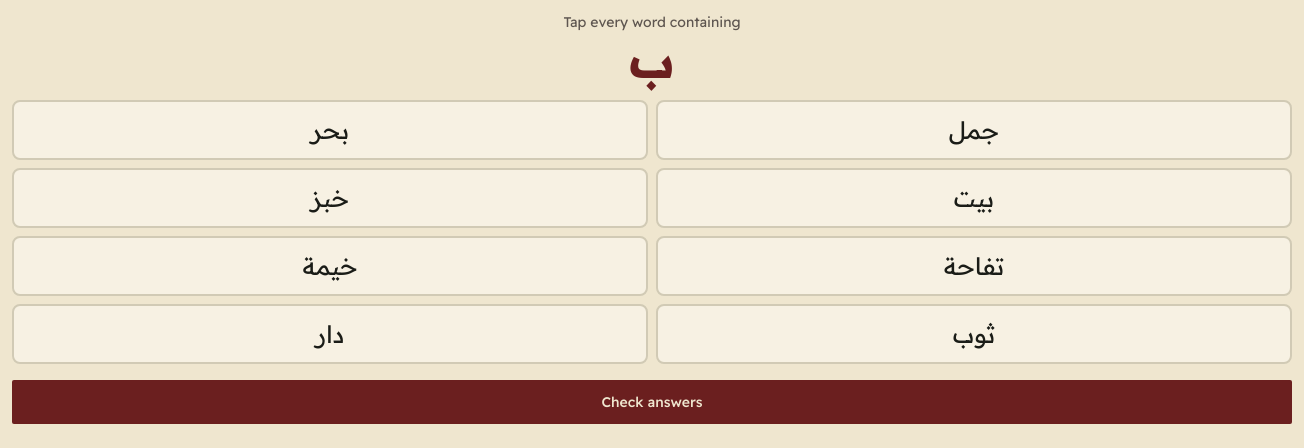
answering › scores full marks for tapping exactly the right words
Click the button "بحر".
click(330, 130)  # box [12,100,648,160]
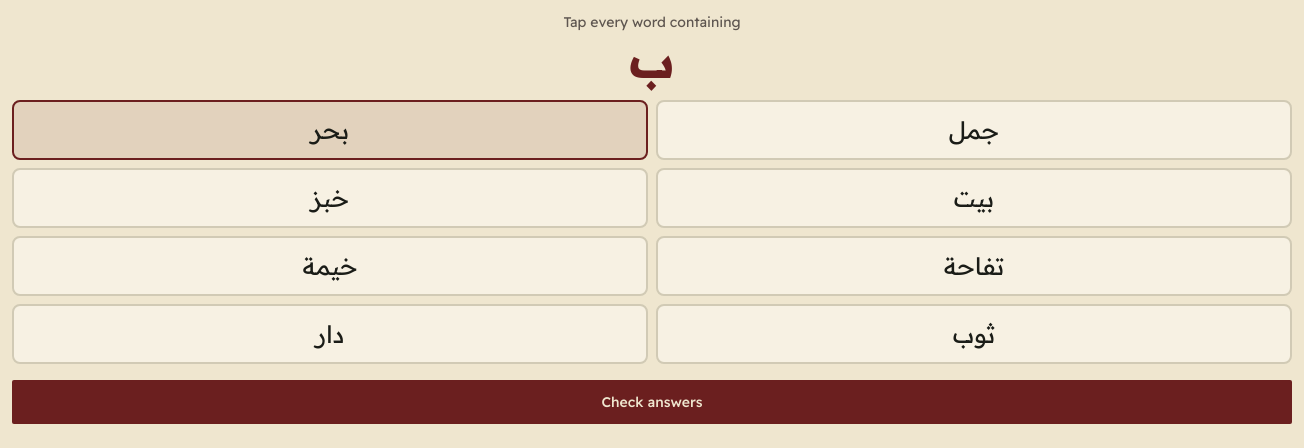
Click the button "خبز".
click(330, 198)  # box [12,168,648,228]
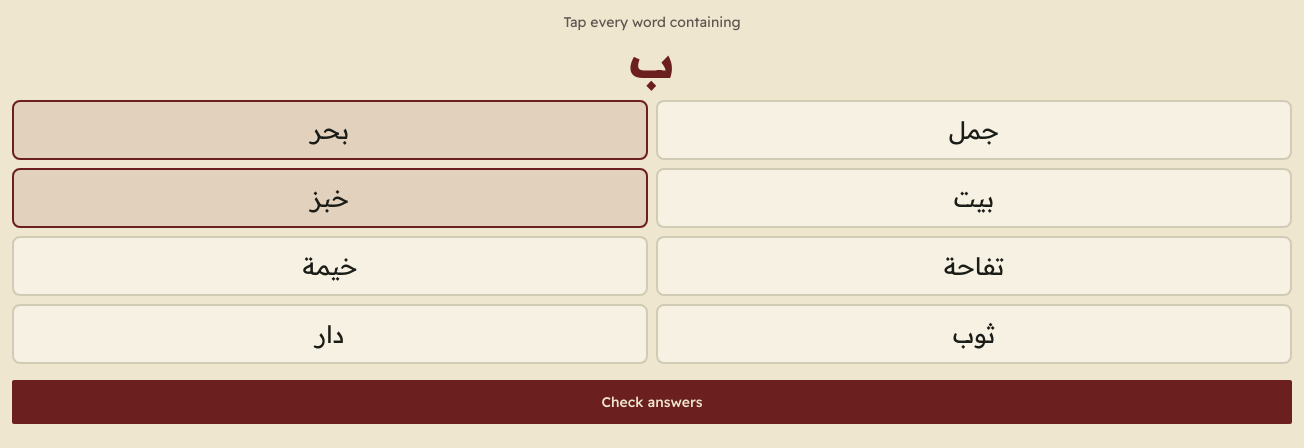
Click the button "بيت".
click(974, 198)  # box [656,168,1292,228]
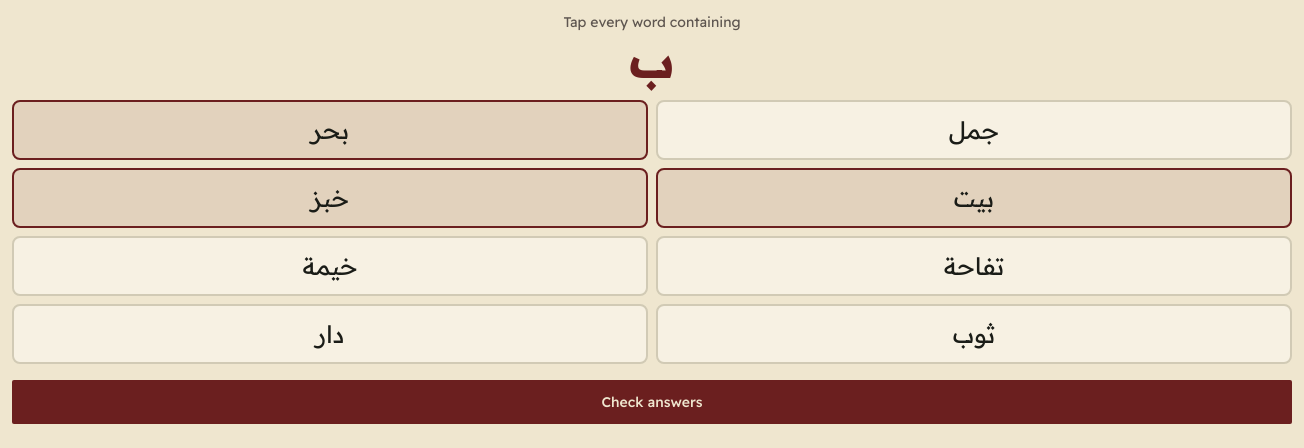
Click the button "ثوب".
click(974, 334)  # box [656,304,1292,364]
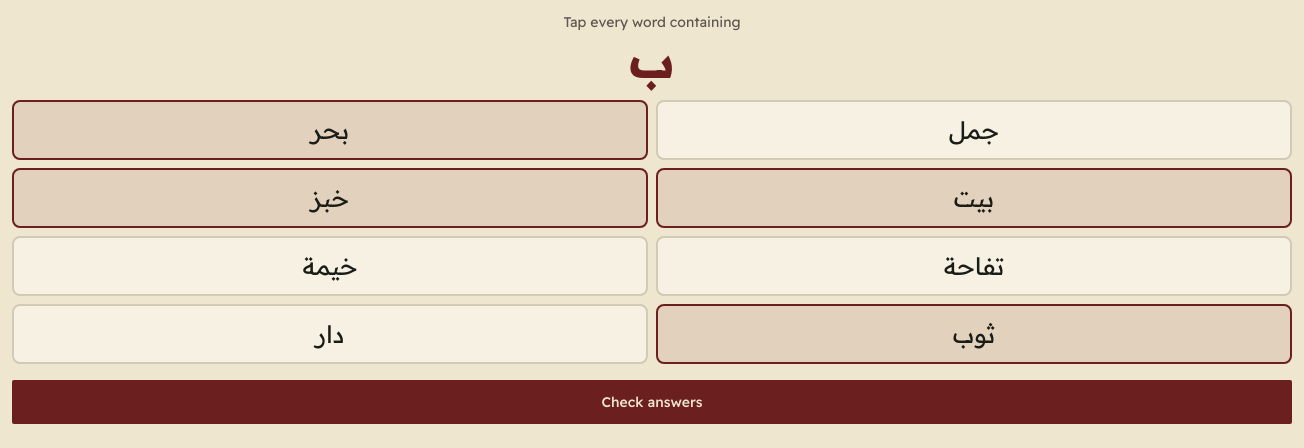
Click the button "Check answers".
click(652, 402)  # box [12,380,1292,424]
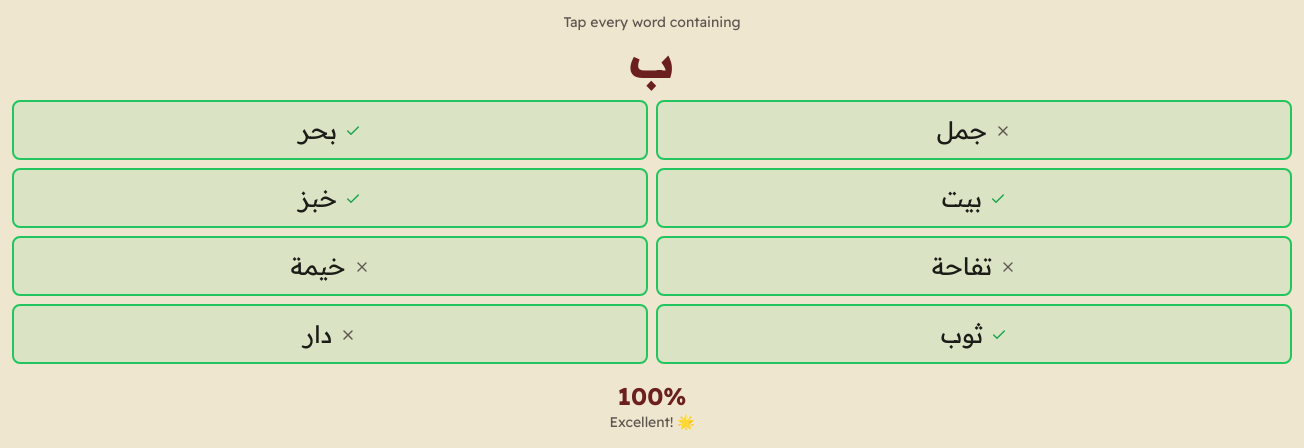
Expected: the text "100%" is shown, [618,381,686,411]
Expected: the text "Excellent! 🌟" is shown, [609,413,695,431]
